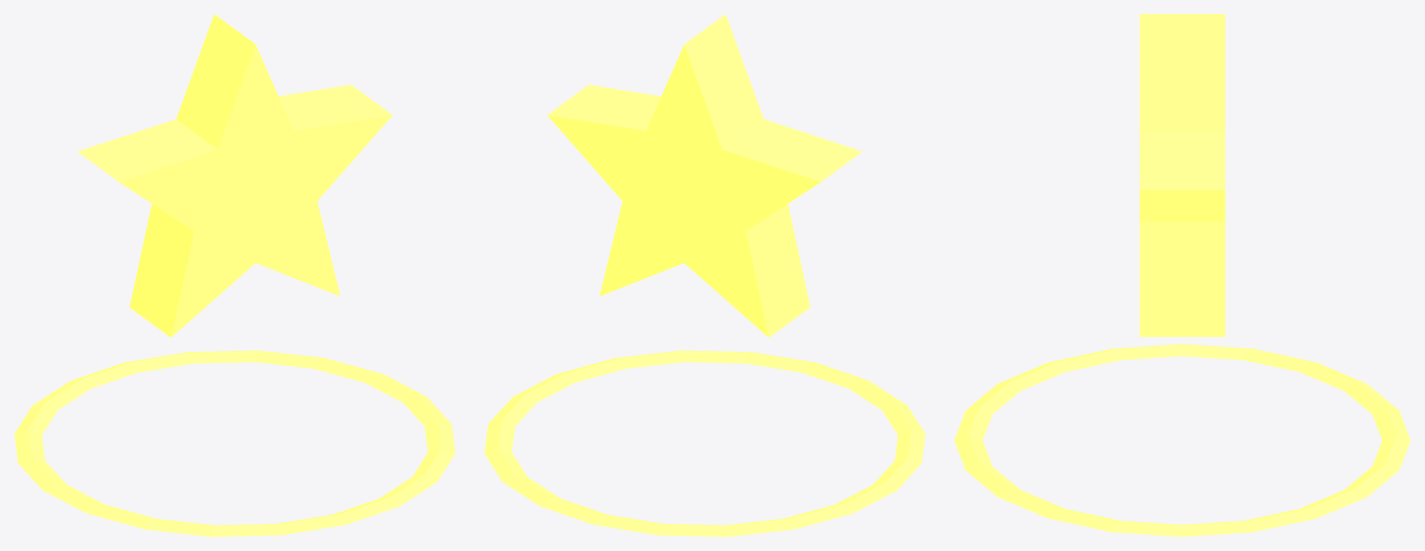
File: pu_star.glb
The picture shows the model from 3 angles, left to right: view 1: azimuth 30°, elevation 25°; view 2: azimuth 150°, elevation 25°; view 3: azimuth 270°, elevation 25°; orthographic projection. The views are drawn at different scales.
Parts seen in each view (by area): view 1: pu_star; view 2: pu_star; view 3: pu_star.
Part boxes in pixels (x1,y1,x2,y2): pu_star: [14, 14, 455, 536]; pu_star: [484, 14, 925, 536]; pu_star: [954, 14, 1410, 536].
Size of the model in its own units: 1.6 by 1.67 by 1.6.
